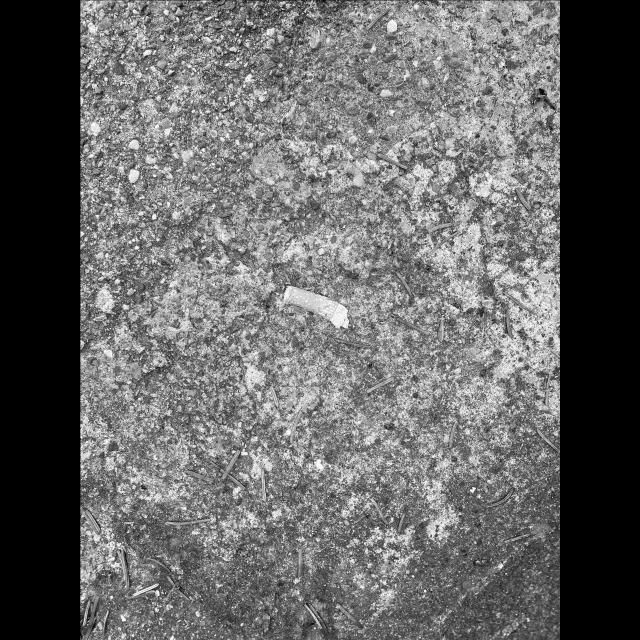cigarette: (283, 284, 349, 330)
